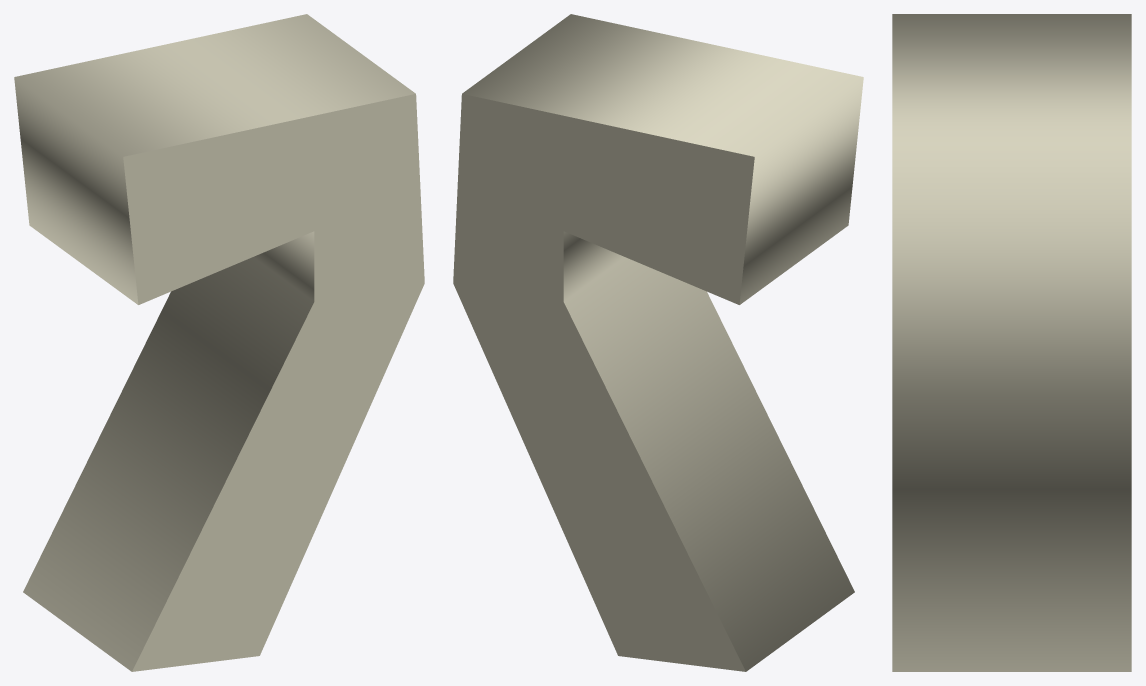
The model's file is Angka7.fbx.
The picture shows the model from 3 angles, left to right: view 1: azimuth 30°, elevation 25°; view 2: azimuth 150°, elevation 25°; view 3: azimuth 270°, elevation 25°; orthographic projection. The views are drawn at different scales.
Parts seen in each view (by area): view 1: M-angka1.001; view 2: M-angka1.001; view 3: M-angka1.001.
Part boxes in pixels (x1,y1,x2,y2): M-angka1.001: (14,14,424,671); M-angka1.001: (453,14,863,671); M-angka1.001: (892,14,1131,671).
Bounding box in the file's own units: 47.92 × 80.83 × 30.
